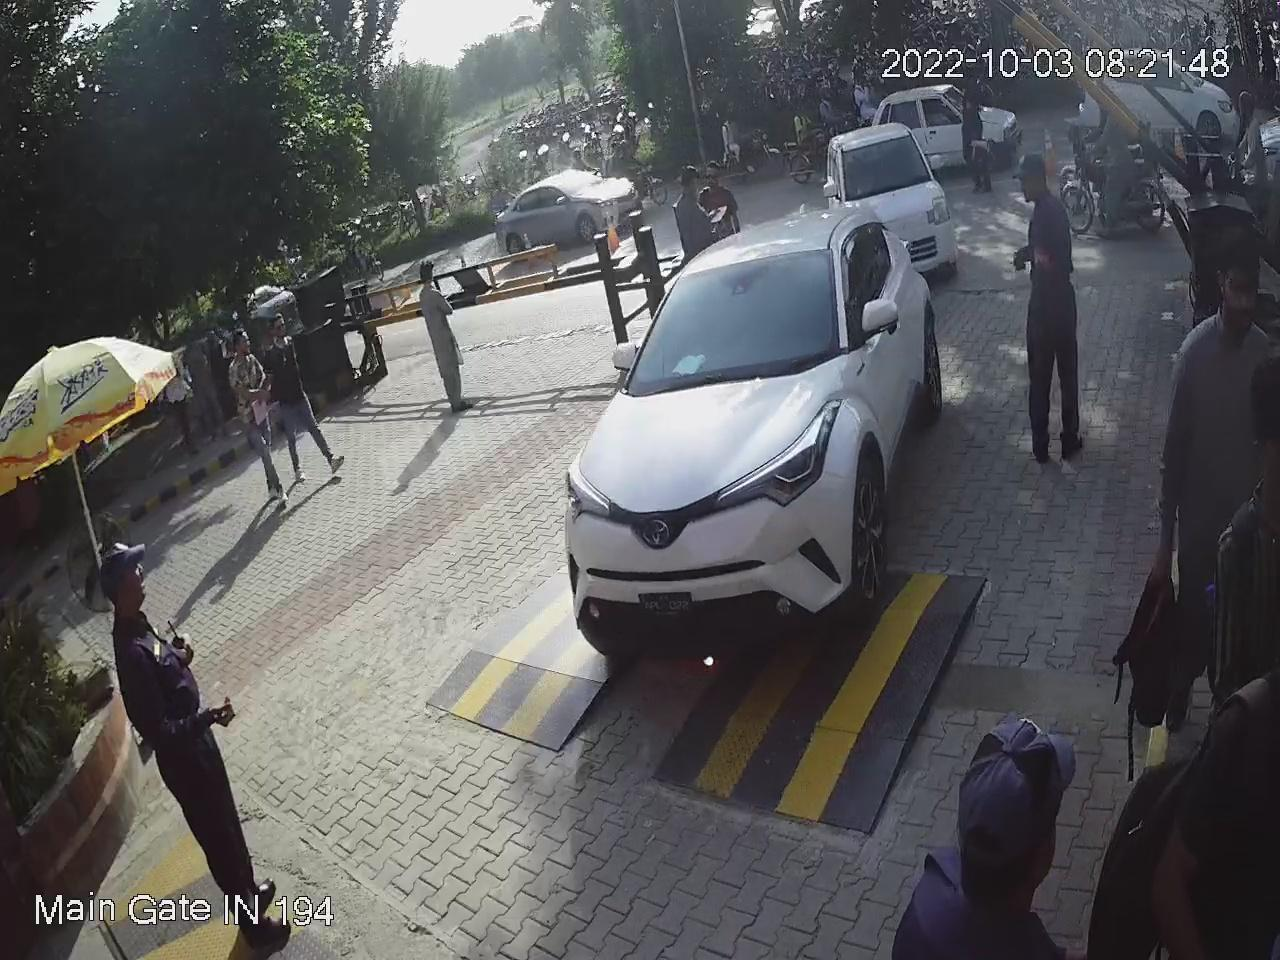windshield: (613, 240, 848, 397)
